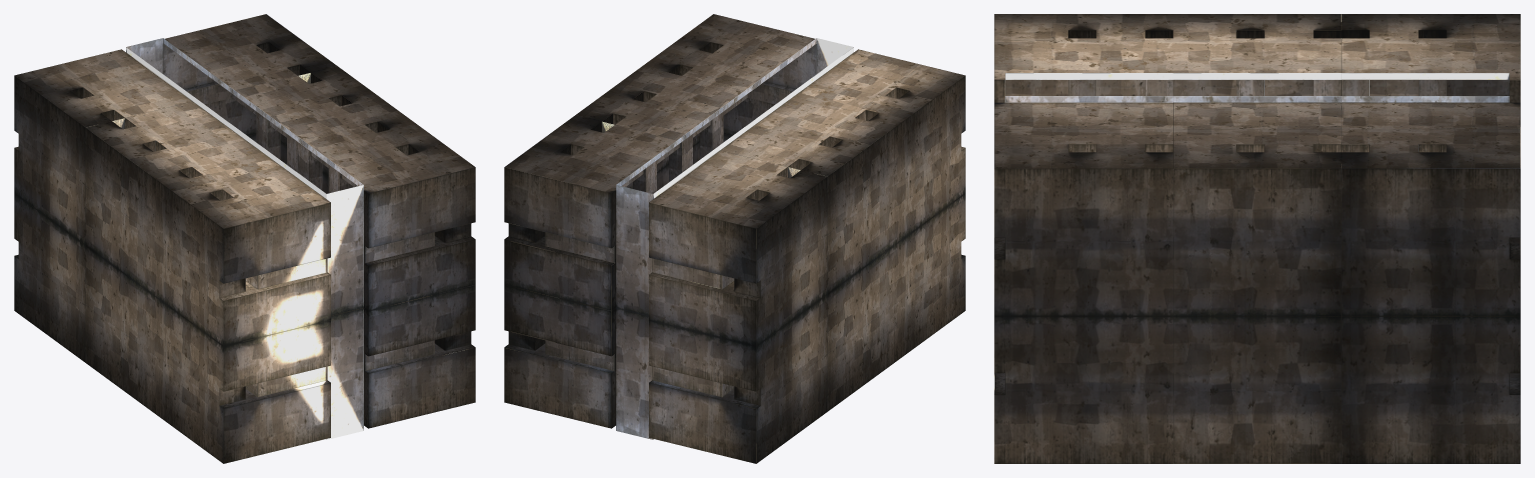
File: brutalism.glb
3 views of the same model, side by side, from view 1: azimuth 30°, elevation 25°; view 2: azimuth 150°, elevation 25°; view 3: azimuth 270°, elevation 25° (orthographic). The views are drawn at different scales.
Visible parts, largest first — view 1: Plane_0, Plane.002_2; view 2: Plane_0, Plane.002_2; view 3: Plane_0, Plane.002_2.
Part boxes in pixels (bbox=[...]): Plane_0: bbox=[14, 14, 475, 346]; Plane.002_2: bbox=[14, 134, 475, 463]; Plane_0: bbox=[504, 14, 965, 346]; Plane.002_2: bbox=[504, 134, 965, 463]; Plane_0: bbox=[994, 14, 1520, 316]; Plane.002_2: bbox=[994, 316, 1520, 463].
Size of the model in its own units: 20.1 by 18.74 by 28.91.
Materials: 2 (2 with a texture image).
